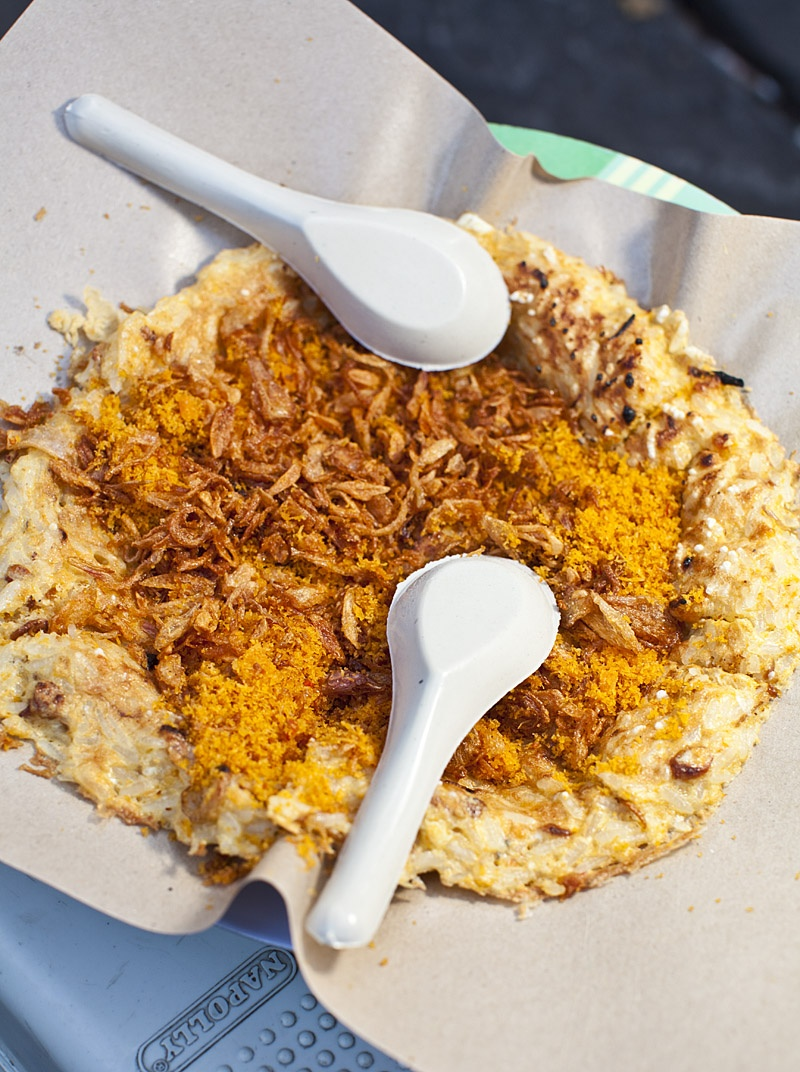kerak_telor: (4, 229, 799, 896)
